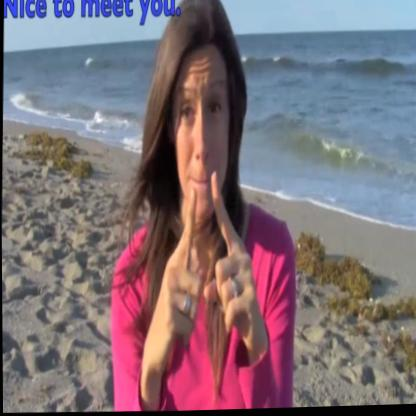NiceToMeetYou: (146, 164, 266, 387)
